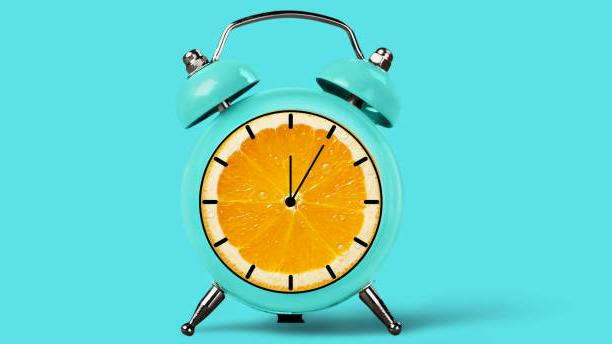clock: (142, 6, 416, 344)
